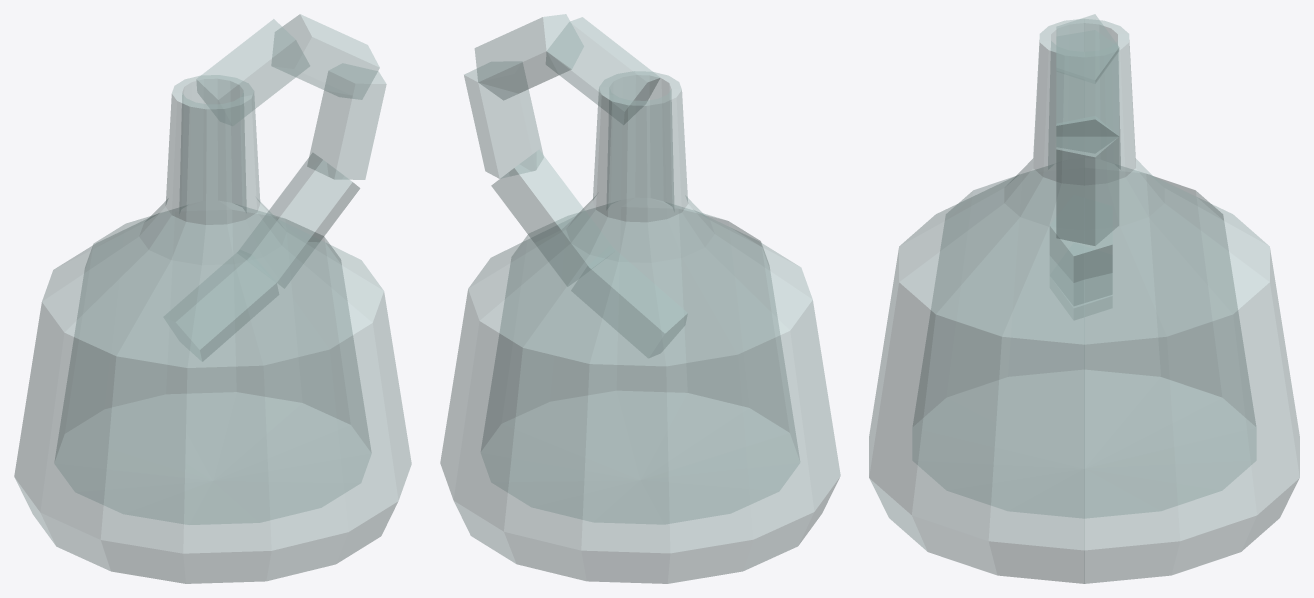
Rendered from art_klein.glb.
3 renders of one model, left to right at view 1: azimuth 30°, elevation 25°; view 2: azimuth 150°, elevation 25°; view 3: azimuth 270°, elevation 25°, orthographic. The views are drawn at different scales.
Parts seen in each view (by area): view 1: block_curved glass flask, block_returning glass neck 3, block_returning glass neck 2, block_returning glass neck 0, block_returning glass neck 4, block_returning glass neck 1; view 2: block_curved glass flask, block_returning glass neck 3, block_returning glass neck 2, block_returning glass neck 4, block_returning glass neck 0, block_returning glass neck 1; view 3: block_curved glass flask, block_returning glass neck 2, block_returning glass neck 1, block_returning glass neck 3, block_returning glass neck 0, block_returning glass neck 4.
Boxes of the visible parts, x1,y1,x2,y2 form: block_curved glass flask: (14, 75, 411, 583); block_returning glass neck 3: (239, 153, 359, 288); block_returning glass neck 2: (307, 63, 386, 179); block_returning glass neck 0: (196, 19, 309, 125); block_returning glass neck 4: (164, 251, 278, 361); block_returning glass neck 1: (271, 14, 379, 99); block_curved glass flask: (440, 71, 840, 583); block_returning glass neck 3: (491, 149, 612, 286); block_returning glass neck 2: (464, 61, 543, 178); block_returning glass neck 4: (571, 248, 687, 357); block_returning glass neck 0: (546, 17, 660, 124); block_returning glass neck 1: (474, 14, 583, 99); block_curved glass flask: (869, 19, 1299, 583); block_returning glass neck 2: (1056, 116, 1119, 245); block_returning glass neck 1: (1056, 30, 1119, 153); block_returning glass neck 3: (1049, 195, 1112, 305); block_returning glass neck 0: (1056, 14, 1118, 82); block_returning glass neck 4: (1050, 276, 1112, 319).
Bounding box in the file's own units: 0.1153 × 0.15 × 0.1124.
1 material, 1 textured.
